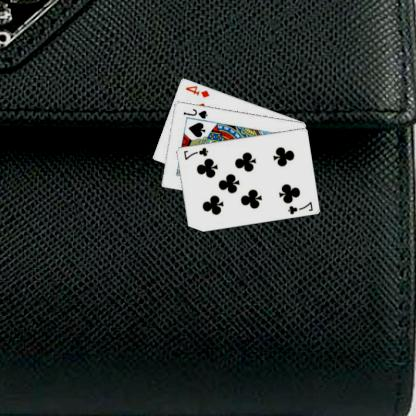4D: (185, 83, 212, 99)
7C: (286, 199, 316, 216), (183, 145, 211, 161)
JS: (183, 106, 210, 120)
